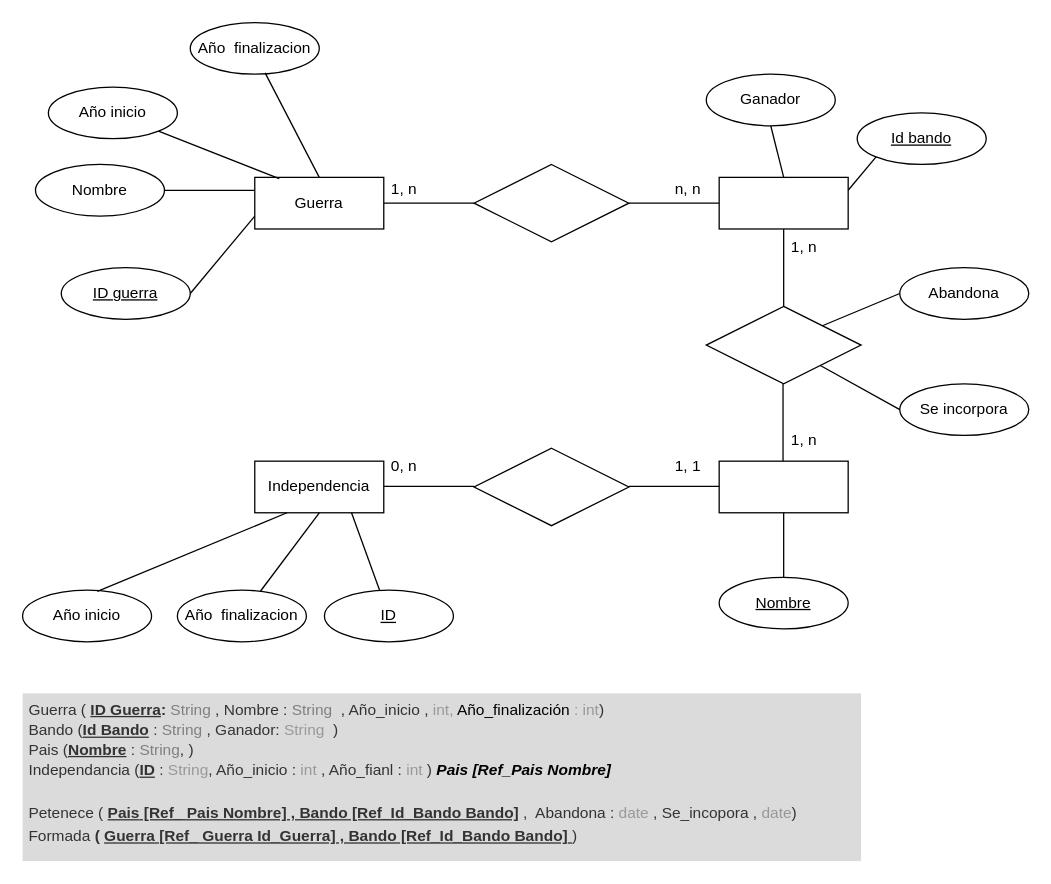
This 1051x884 diagram has some shape labels left out. Each missing label, with the centre of its shape:
Bando: pixel 783 202
Formada: pixel 551 202
Pais: pixel 783 486
Pertenece: pixel 783 344
Ser: pixel 551 486
